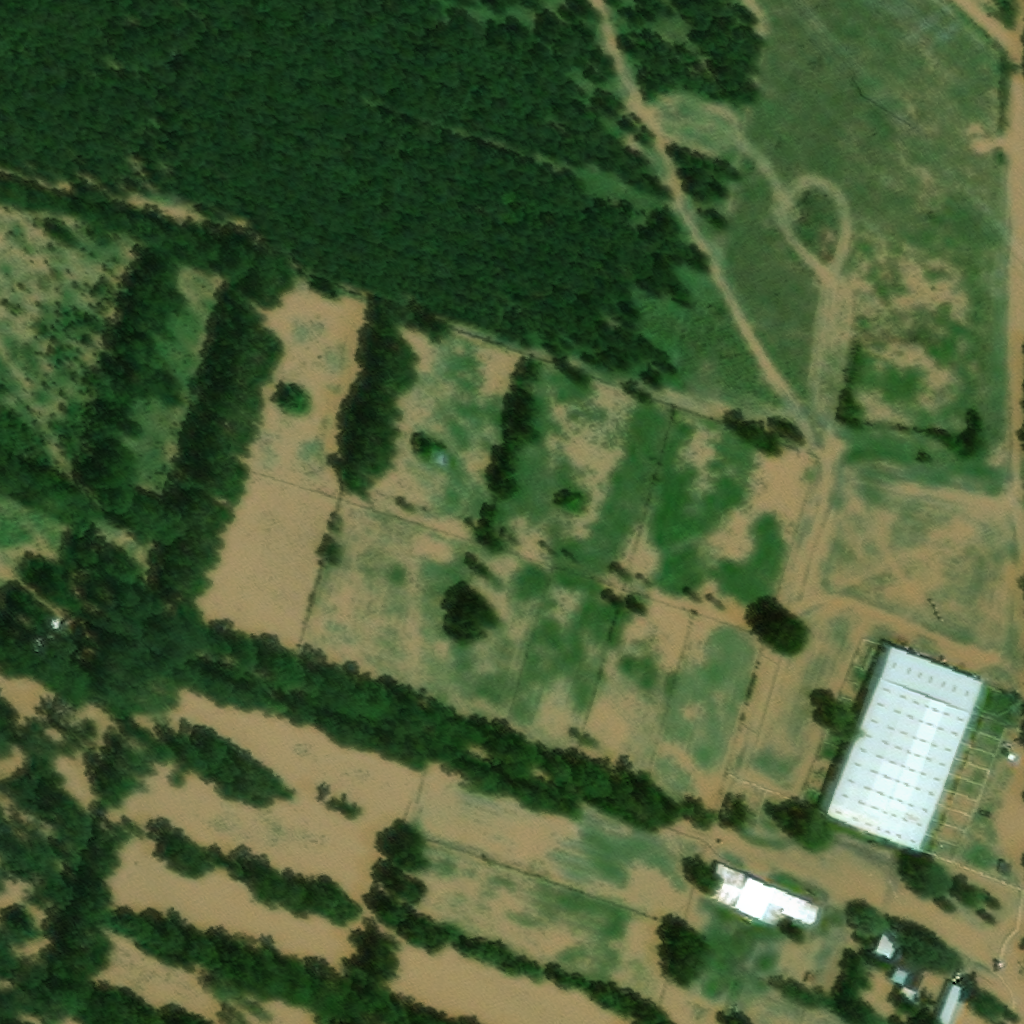destroyed: (982, 838, 993, 845)
major_damage: (888, 948, 927, 1003), (869, 953, 885, 974)
minor_damage: (822, 640, 983, 852), (706, 863, 823, 929), (936, 982, 965, 1023), (875, 929, 900, 955), (432, 450, 447, 464), (1003, 863, 1013, 879), (992, 813, 1001, 820)
unclassified: (30, 611, 57, 661)
